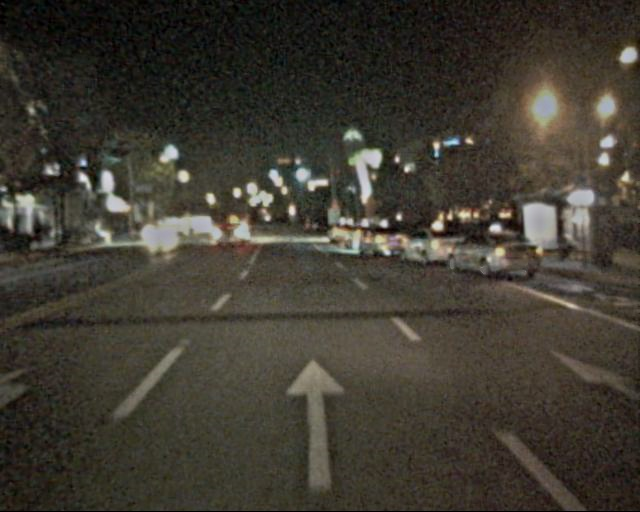person: (553, 229, 581, 268), (599, 208, 620, 260)
